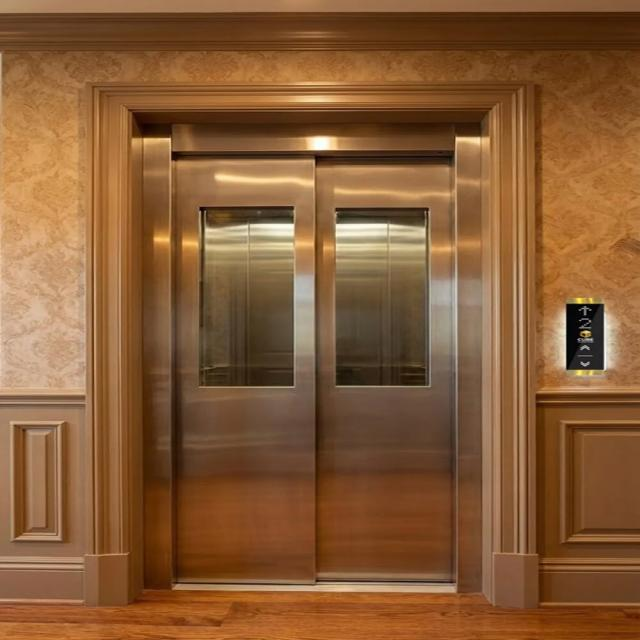elevator: (81, 63, 614, 614)
